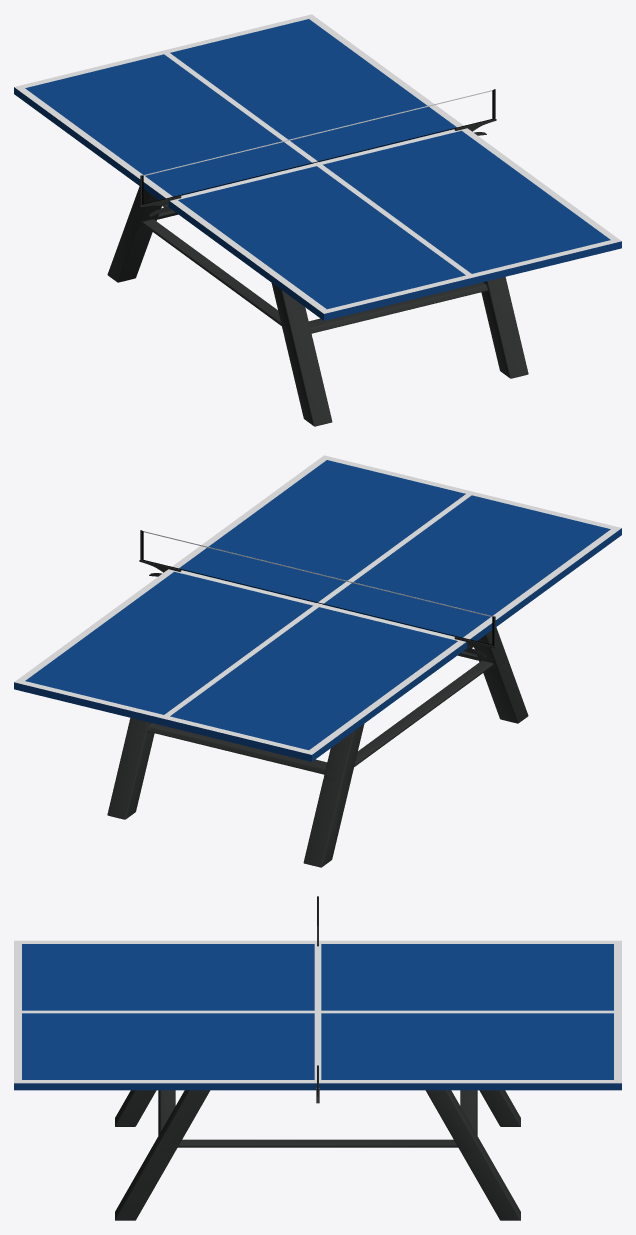
File: Table.glb
3 renders of one model, top to bottom at view 1: azimuth 30°, elevation 25°; view 2: azimuth 150°, elevation 25°; view 3: azimuth 270°, elevation 25°, orthographic.
Visible parts, largest first — view 1: TableTennis; view 2: TableTennis; view 3: TableTennis.
Part boxes in pixels (x1,y1,x2,y2): TableTennis: (14,14,621,426); TableTennis: (14,455,621,867); TableTennis: (14,896,621,1220).
Bounding box in the file's own units: 1.81 × 0.9352 × 2.73.
